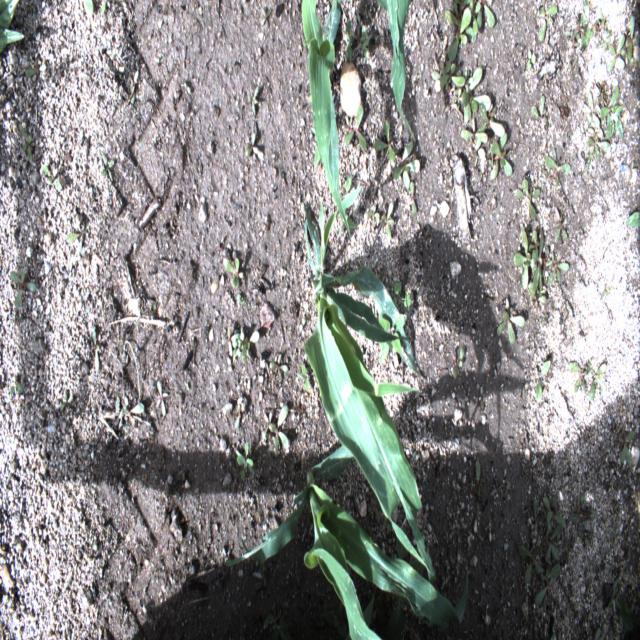crop: (304, 184, 437, 600), (225, 428, 468, 640), (302, 0, 351, 240), (376, 0, 415, 143)
weed: (387, 525, 425, 639), (513, 225, 539, 292), (604, 576, 634, 630), (392, 140, 420, 191), (378, 314, 407, 362), (600, 84, 624, 140), (0, 0, 24, 55), (448, 8, 472, 63), (533, 562, 561, 608), (466, 66, 493, 111), (490, 129, 512, 182), (10, 266, 37, 309), (513, 177, 541, 218), (566, 10, 595, 49), (496, 306, 524, 346), (268, 405, 289, 457), (445, 9, 477, 43), (516, 544, 542, 585), (344, 105, 366, 152), (544, 146, 571, 184), (476, 104, 506, 137), (585, 132, 611, 170), (567, 359, 593, 395), (374, 120, 396, 162), (66, 213, 88, 254), (544, 519, 564, 563), (235, 440, 255, 482), (324, 602, 348, 637), (581, 90, 601, 132), (544, 495, 566, 533), (538, 2, 558, 43), (606, 33, 626, 74), (577, 494, 597, 534), (461, 117, 487, 147), (532, 228, 544, 292), (623, 15, 639, 62), (548, 252, 570, 286), (580, 1, 604, 32), (438, 63, 466, 89), (536, 358, 552, 402), (617, 431, 635, 469), (222, 256, 242, 290), (590, 362, 607, 402), (529, 281, 549, 313), (41, 164, 63, 193), (268, 352, 290, 381), (594, 18, 612, 52), (452, 67, 473, 96), (476, 0, 496, 29), (242, 330, 260, 362), (18, 122, 32, 162), (530, 94, 548, 125), (346, 18, 358, 64), (337, 213, 358, 239), (462, 88, 478, 122), (356, 26, 371, 61), (246, 132, 264, 161), (392, 281, 412, 307), (431, 57, 453, 80), (381, 201, 394, 239), (221, 325, 236, 357), (468, 0, 481, 36), (155, 380, 168, 415), (295, 362, 309, 394), (91, 324, 100, 372), (246, 85, 259, 118), (233, 328, 246, 361), (100, 152, 114, 182), (262, 411, 276, 441), (454, 347, 466, 382), (554, 215, 568, 244), (542, 247, 554, 280), (471, 146, 485, 174), (454, 0, 469, 26), (113, 394, 125, 426), (340, 172, 352, 200), (527, 232, 539, 260), (409, 180, 419, 213), (123, 402, 144, 417), (475, 458, 483, 497), (60, 389, 73, 412), (452, 88, 465, 110), (619, 47, 634, 66), (596, 80, 608, 103), (373, 500, 384, 524), (368, 205, 380, 225), (26, 62, 40, 78), (587, 125, 603, 139), (260, 6, 271, 26), (491, 480, 503, 498), (234, 402, 241, 432), (527, 50, 537, 71), (314, 141, 322, 166), (626, 211, 639, 226), (628, 160, 637, 180), (569, 56, 578, 76), (82, 0, 94, 14), (568, 35, 581, 47), (342, 115, 352, 130), (444, 103, 458, 113), (298, 316, 306, 333), (533, 497, 537, 531), (237, 293, 247, 306), (593, 626, 602, 640), (9, 385, 22, 394), (538, 282, 546, 295), (101, 0, 106, 14)
